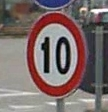limite 10: (26, 12, 86, 98)
